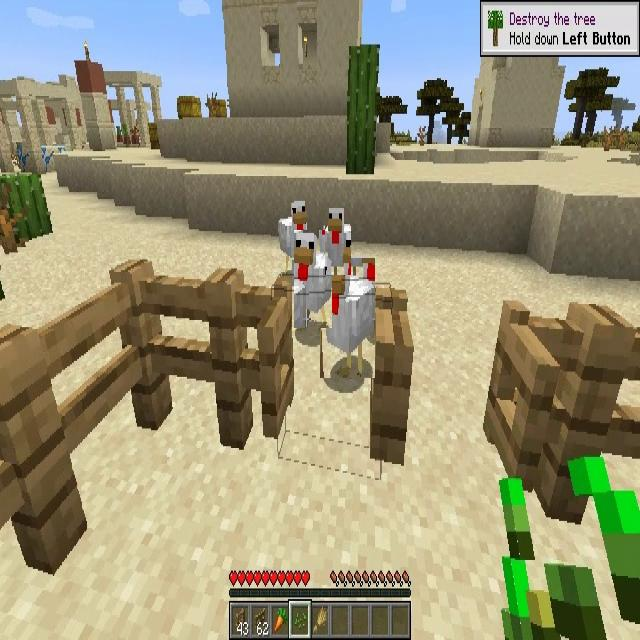duck: (320, 258, 375, 378), (294, 230, 332, 328), (278, 201, 308, 270), (325, 208, 351, 275)
